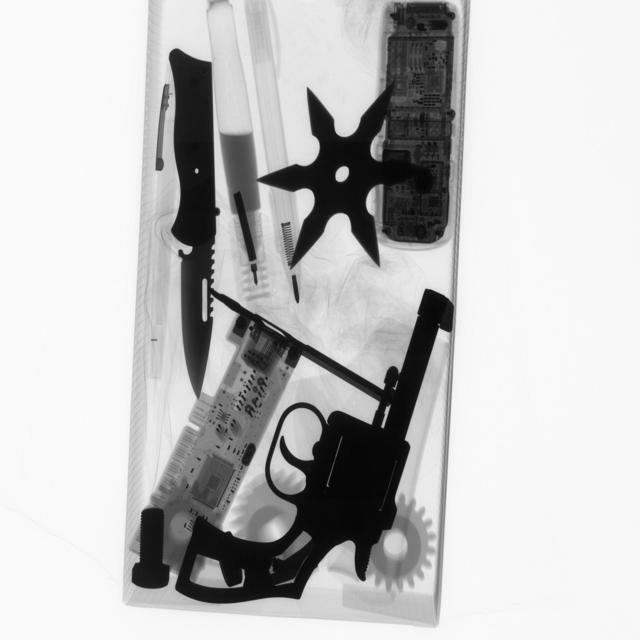gun: (179, 290, 451, 604)
knife: (164, 43, 229, 402)
shuriken: (266, 81, 422, 271)
